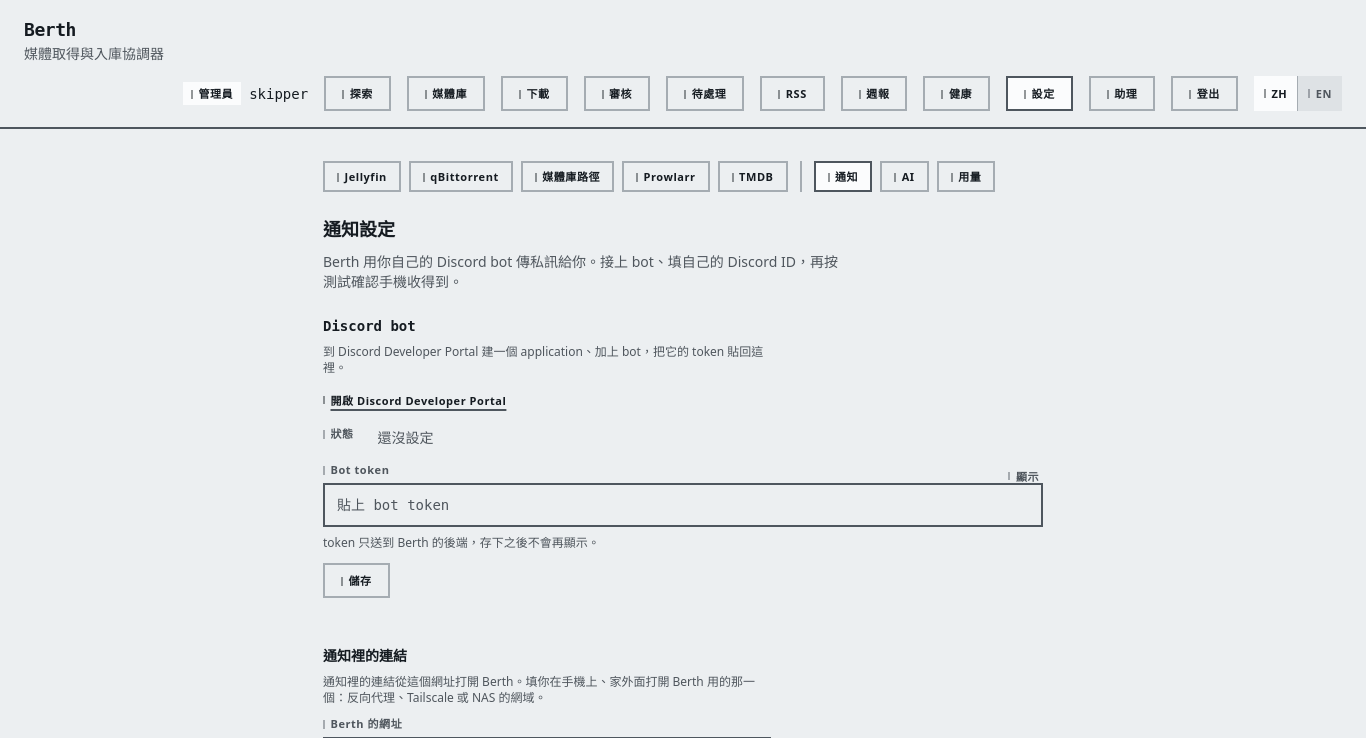
Test: 設定 → 通知 › token_rejected：就地標在欄位上
Type "rejected" into the password field labelled "Bot token" at {"x": 683, "y": 505}, box [323,483,1043,527]
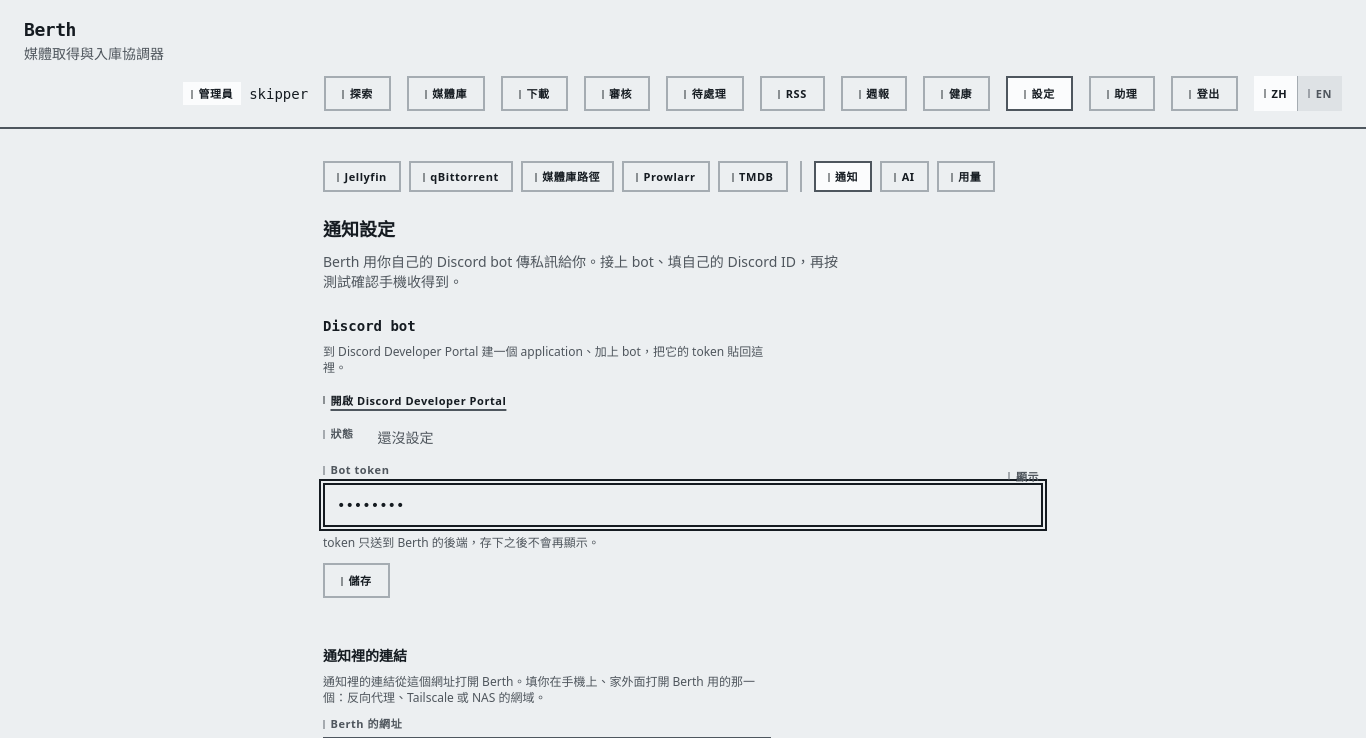
Click the button "儲存" at {"x": 356, "y": 580}, box [323,563,390,598]
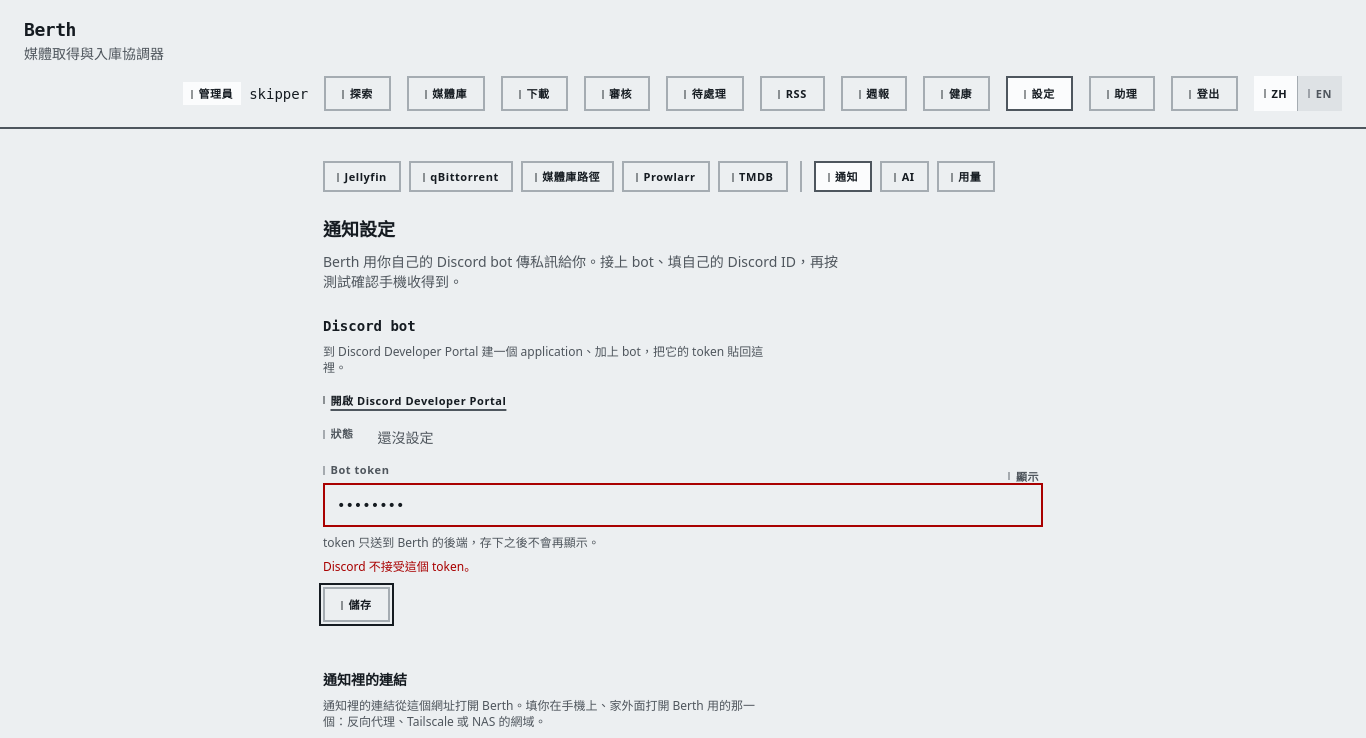
Expected: the text "Discord 不接受這個 token。" is shown, [323,558,476,575]
